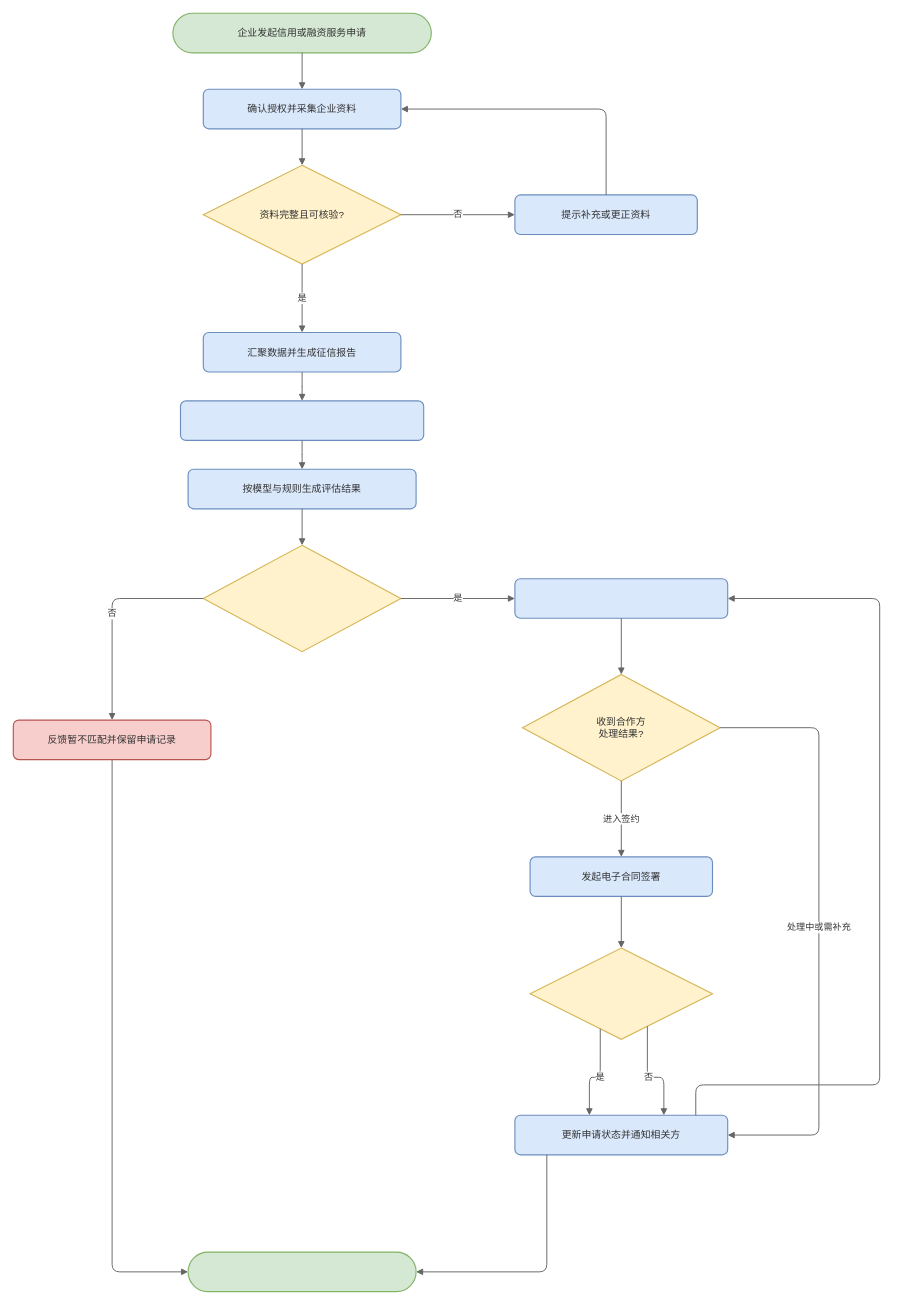
Image size: 900x1306. Some labels were removed from this diagram. Here are the shapes that lost their labels. From the top down, the centre of each, then its label:
(302,420): 移动作业完成现场认证与取证
(301,598): 存在适配的 服务产品?
(621,598): 经标准接口提交合作机构
(621,993): 签署完成?
(301,1271): 归档报告、核验和流转记录
